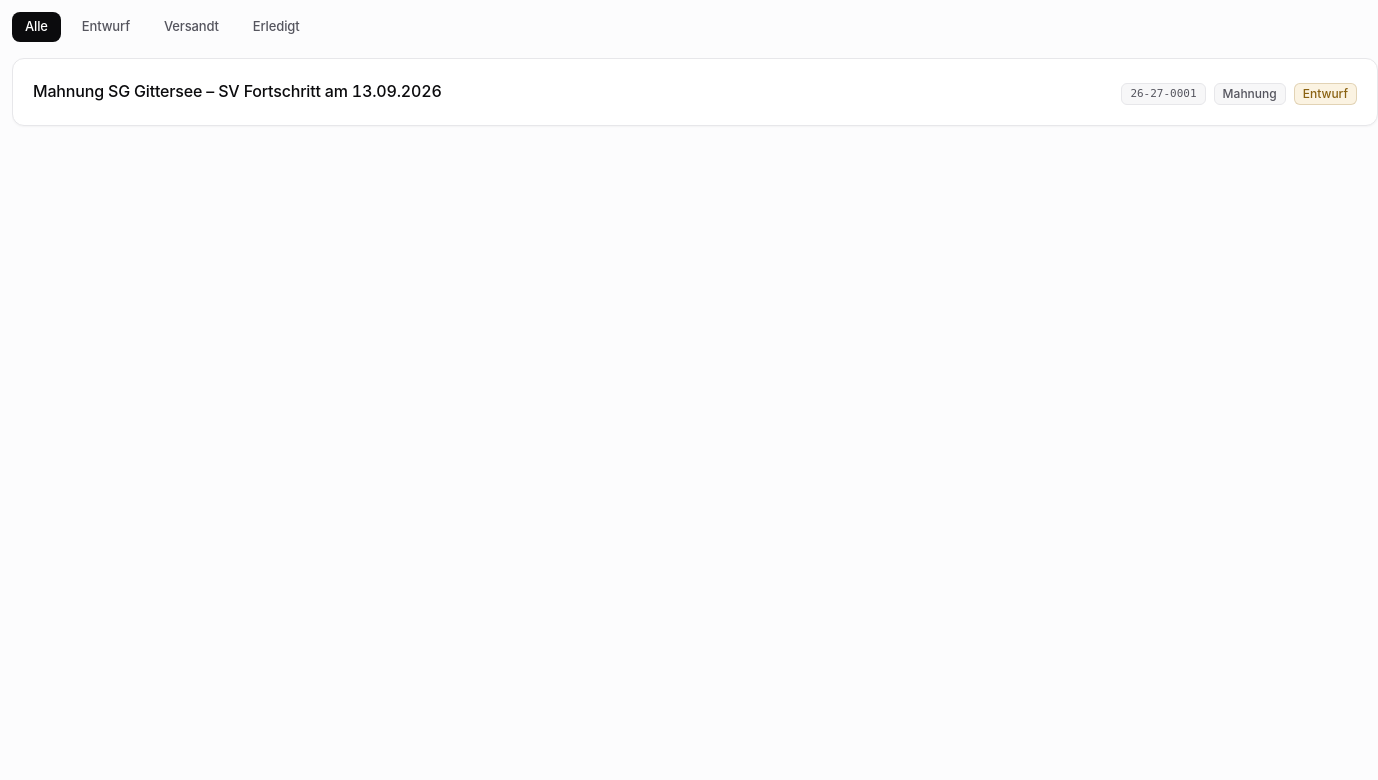
Test: Ein Vorgang › zeigt Text und Empfänger beim Aufklappen
The width and height of the screenshot is (1378, 780).
Click the 5th button. click: (237, 91)
box: [33, 79, 1357, 105]
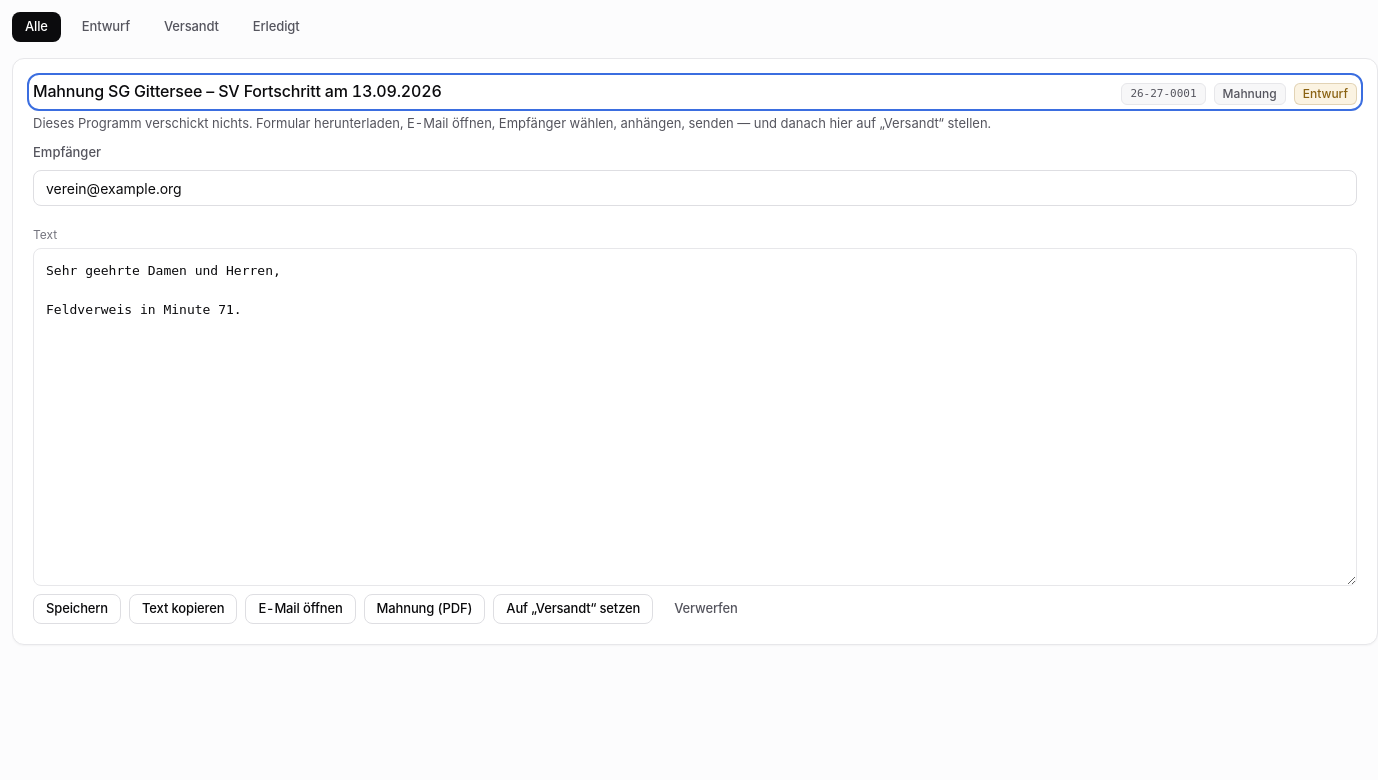
Expected: the text box showing "Feldverweis in Minute 71" is shown, [33, 248, 1357, 586]
Expected: the field showing "verein@example.org" is shown, [33, 170, 1357, 206]
